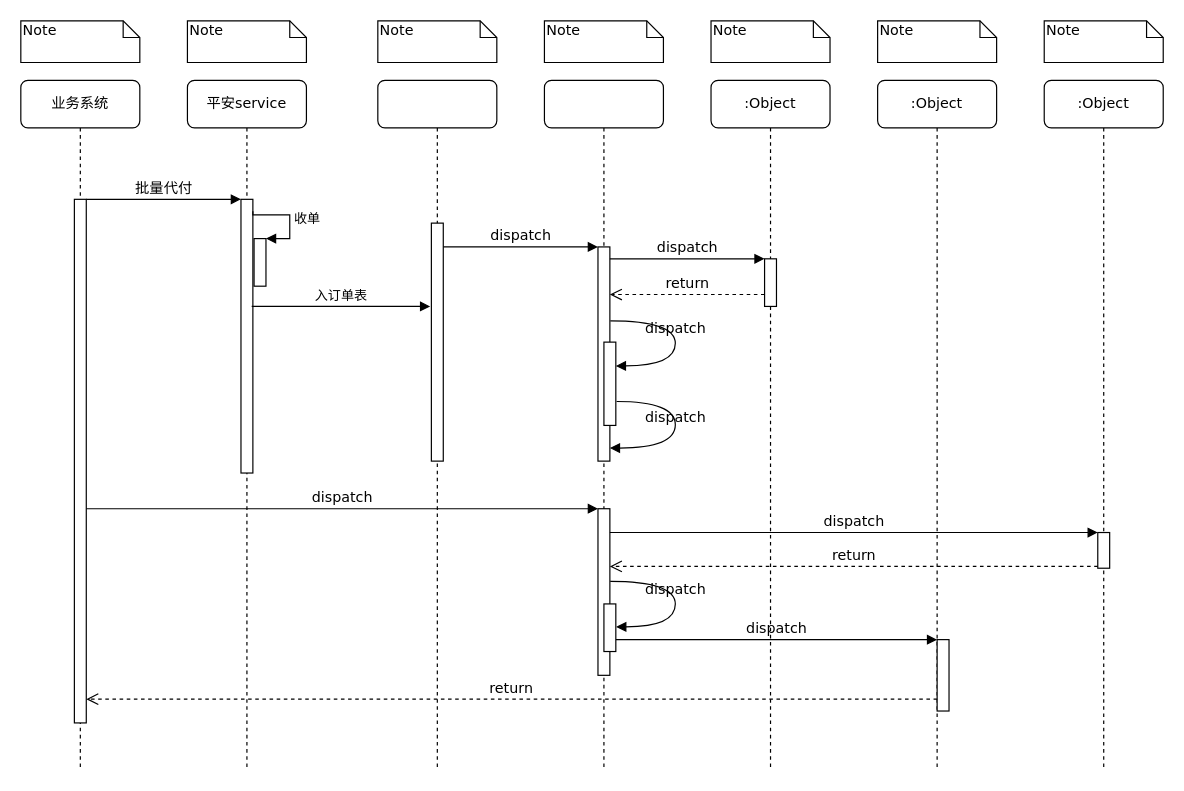
Image size: 1184x791. Some labels were removed from this diagram. The centre of each missing label's shape, as x and y in pixels:
ehub处理类: the point at 437,425
定时任务: the point at 603,425
